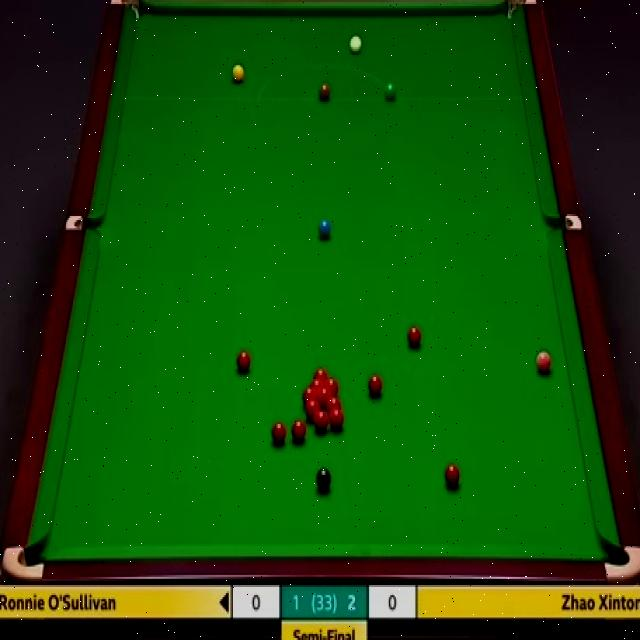black-ball: (315, 467, 332, 492)
blue-ball: (317, 218, 332, 240)
brown-ball: (318, 82, 332, 102)
green-ball: (384, 81, 396, 101)
pink-ball: (535, 349, 553, 378)
red-ball: (444, 462, 461, 489), (406, 326, 423, 352), (273, 418, 289, 442), (366, 374, 382, 398), (314, 408, 329, 432), (329, 407, 344, 431), (236, 350, 250, 374), (291, 421, 305, 444), (304, 400, 320, 418), (323, 378, 339, 394), (325, 396, 342, 411), (317, 388, 332, 402), (302, 386, 317, 399), (313, 367, 329, 378), (310, 378, 326, 387)
white-ball: (348, 33, 362, 56)
yellow-ball: (232, 64, 245, 86)
